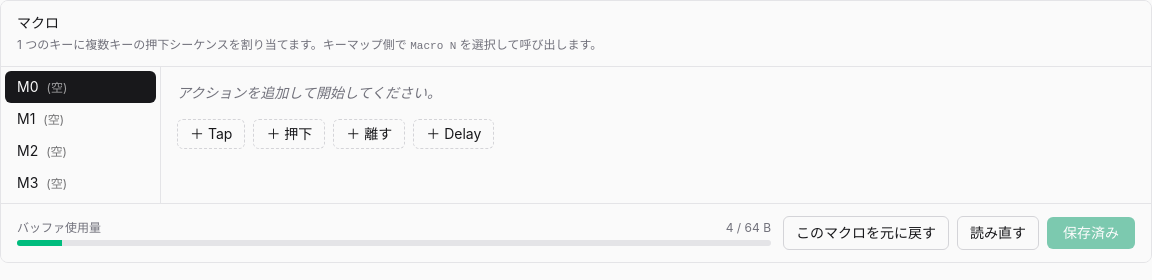
Test: MacroEditor — action editing › add-delay appends a Delay action with the default 30ms
Click the button "＋ Delay" at (454, 134), box [413,119,494,149]
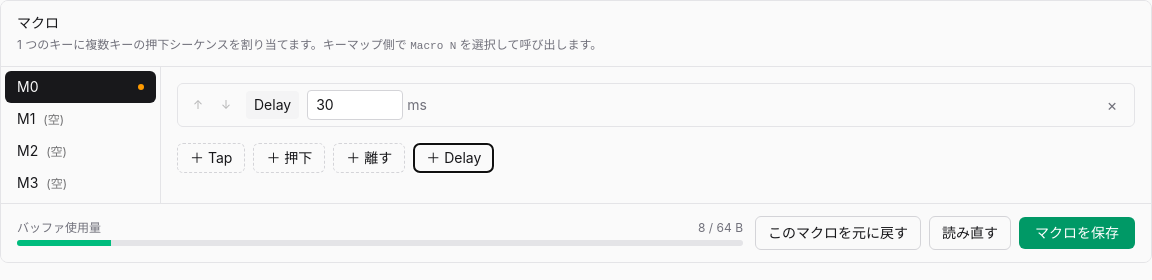
Expected: the number field holds "30", [307,90,403,120]
